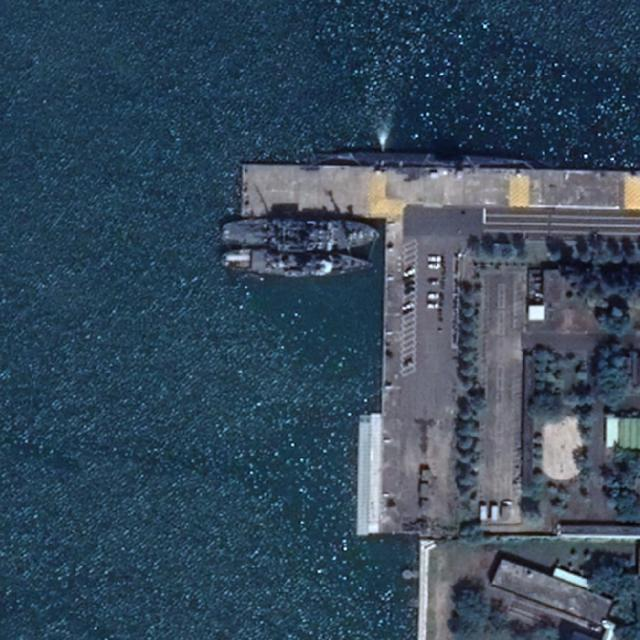Other Warship: (222, 252, 376, 283), (223, 220, 378, 250)
Submarine: (314, 146, 528, 168)
